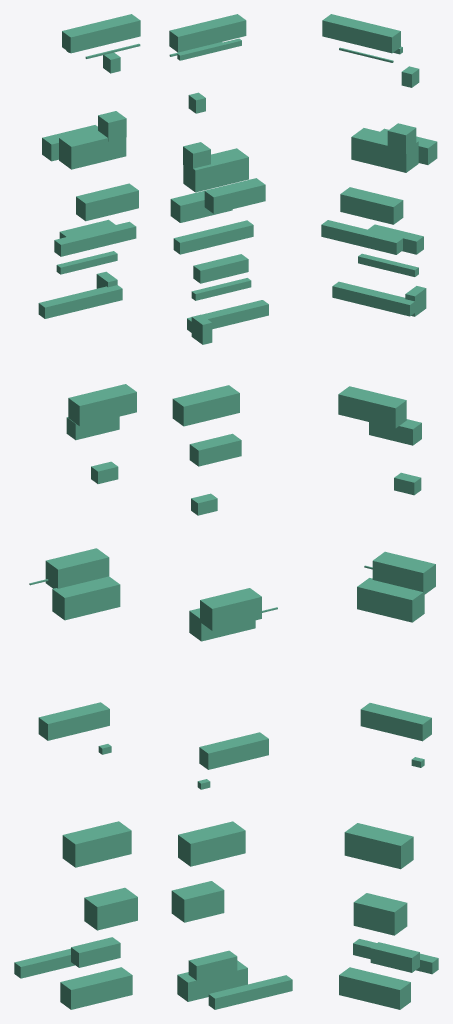
File: BranchesCollider.fbx
The picture shows the model from 3 angles, left to right: view 1: azimuth 30°, elevation 25°; view 2: azimuth 210°, elevation 25°; view 3: azimuth 330°, elevation 25°; orthographic projection. The views are drawn at different scales.
Visible parts, largest first — view 1: Forest001; view 2: Forest001; view 3: Forest001.
Boxes of the visible parts, bbox=[...] form: Forest001: bbox=[14, 14, 140, 1009]; Forest001: bbox=[169, 14, 292, 1009]; Forest001: bbox=[321, 14, 438, 1009].
Bounding box in the file's own units: 6450 × 75970 × 6552.
